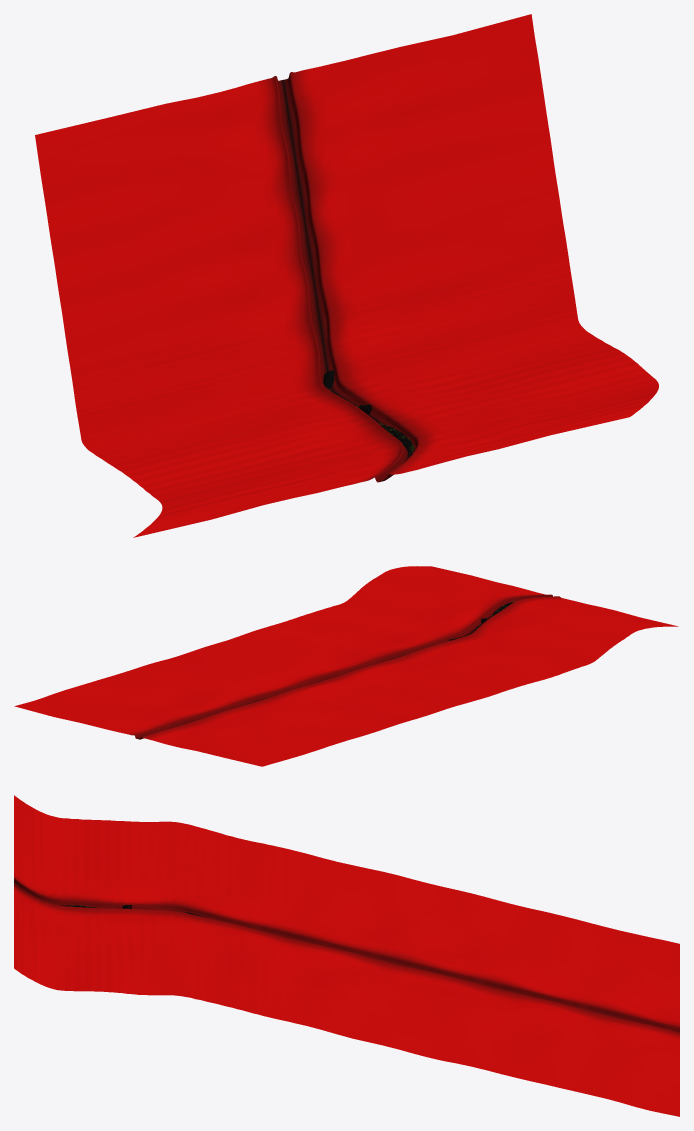
Rendered from cave.glb.
3 views of the same model, one above another, from view 1: azimuth 30°, elevation 25°; view 2: azimuth 150°, elevation 25°; view 3: azimuth 270°, elevation 25° (orthographic). The views are drawn at different scales.
Visible parts, largest first — view 1: ground; view 2: ground; view 3: ground.
Boxes of the visible parts, x1,y1,x2,y2 form: ground: [35, 14, 658, 537]; ground: [14, 566, 678, 766]; ground: [14, 795, 679, 1116].
Bounding box in the file's own units: 383 × 15.17 × 358.
